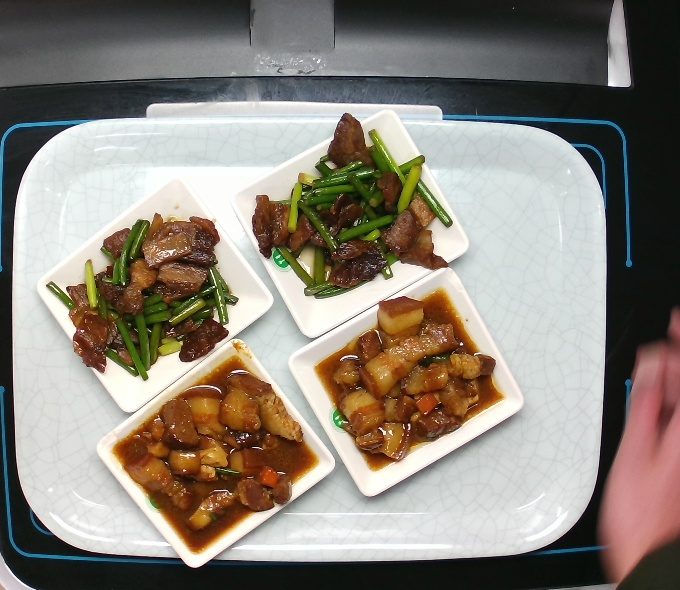wcq-HongShaoRou: (328, 290, 502, 469), (123, 372, 311, 532)
wcq-SuanMiaoChaoRou: (246, 110, 453, 300), (41, 207, 242, 387)
